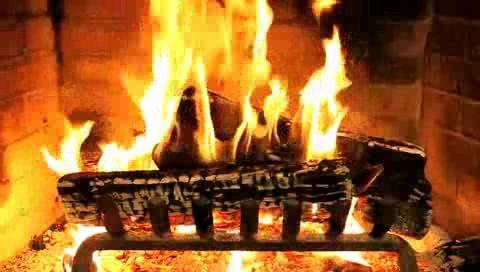fire: (145, 2, 354, 161), (37, 120, 141, 170)
